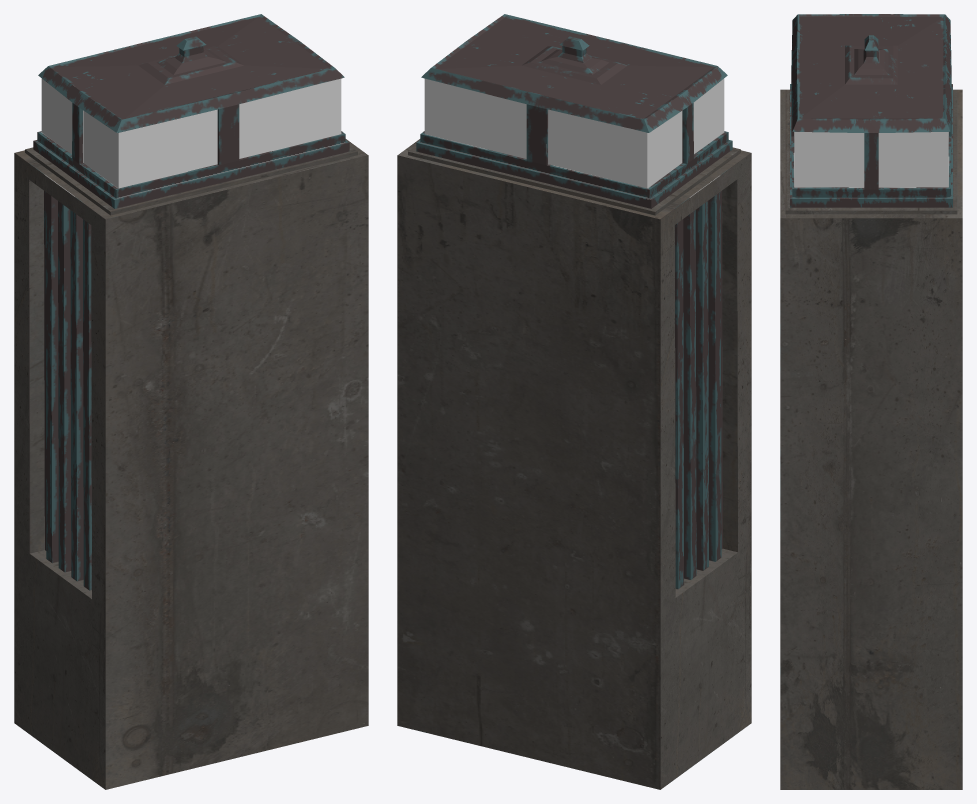
File: Pilar.fbx
The picture shows the model from 3 angles, left to right: view 1: azimuth 30°, elevation 25°; view 2: azimuth 150°, elevation 25°; view 3: azimuth 270°, elevation 25°; orthographic projection.
Parts seen in each view (by area): view 1: Cube.004; view 2: Cube.004; view 3: Cube.004.
Boxes of the visible parts, bbox=[...] form: Cube.004: bbox=[14, 14, 368, 789]; Cube.004: bbox=[397, 14, 751, 789]; Cube.004: bbox=[780, 14, 962, 789].
Size of the model in its own units: 481 by 1199 by 289.
2 materials, 1 textured.
